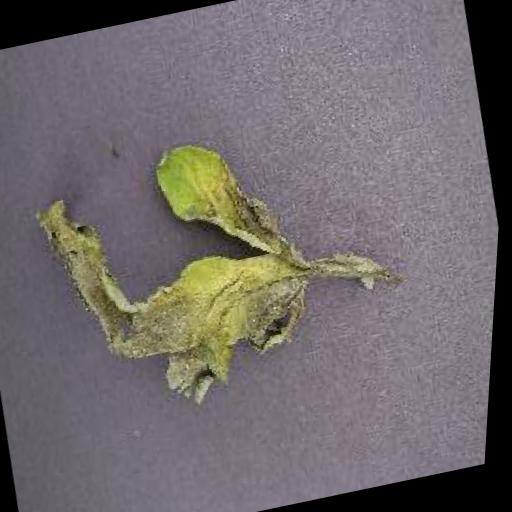Late Blight: (21, 120, 342, 422)
